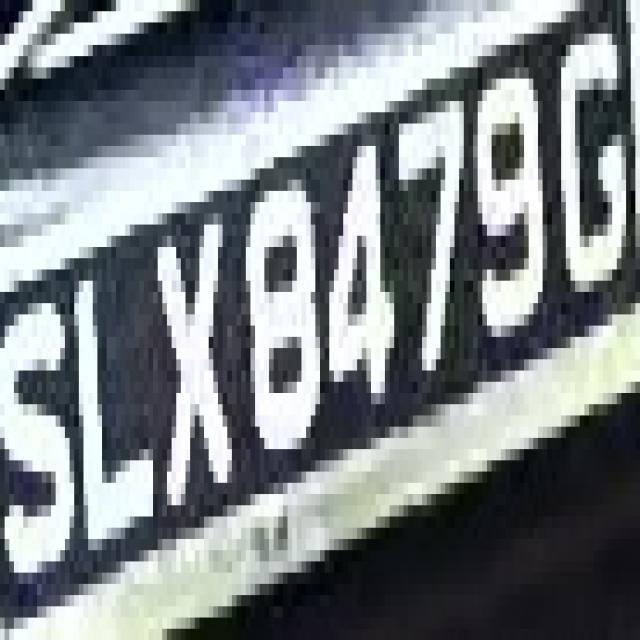4: (315, 112, 408, 472)
7: (376, 68, 468, 416)
8: (236, 157, 324, 460)
9: (463, 78, 542, 370)
G: (538, 0, 631, 292)
L: (74, 214, 162, 562)
S: (5, 247, 74, 606)
X: (139, 202, 241, 528)
